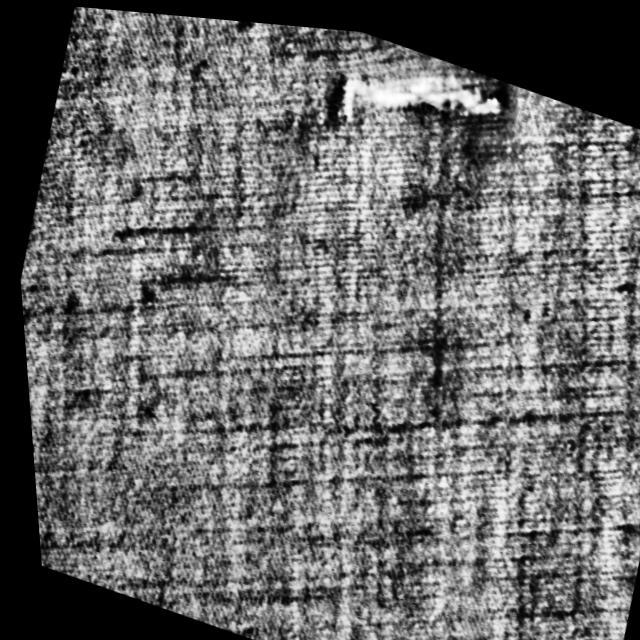Hole: (316, 22, 519, 174)
